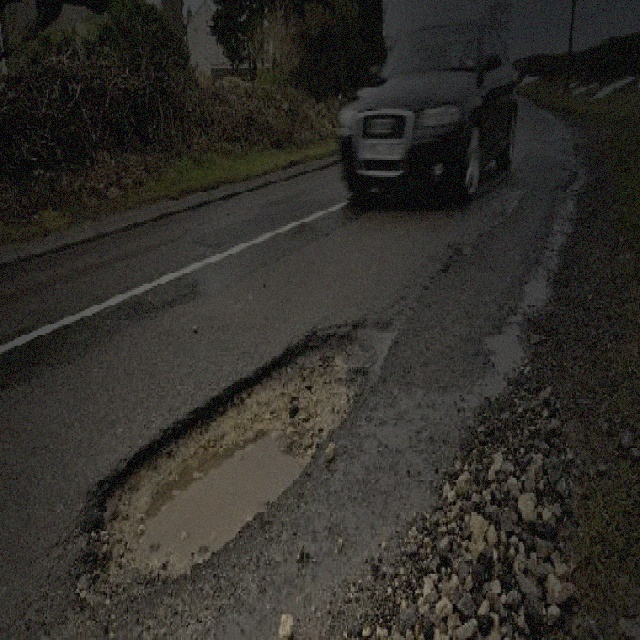pothole: (81, 318, 396, 578)
